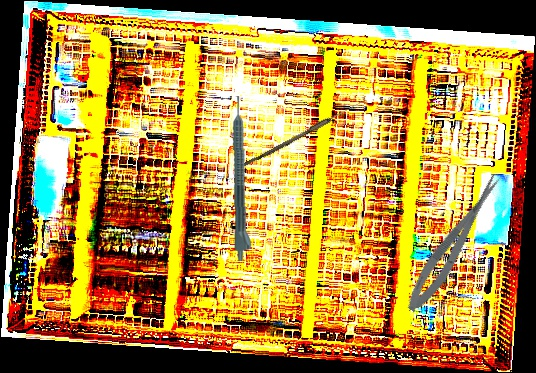Handpiece: (231, 95, 254, 262)
Micro Scissor: (398, 170, 511, 317)
Surgical Spoon: (239, 98, 363, 172)
